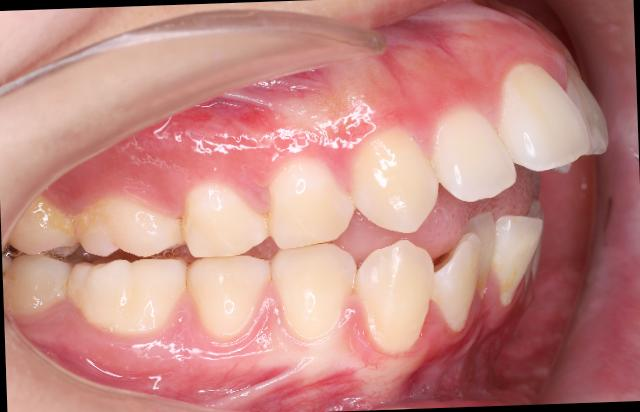canine class II 3/4: (260, 118, 444, 358)
molar class II 1/4: (60, 184, 192, 350)
